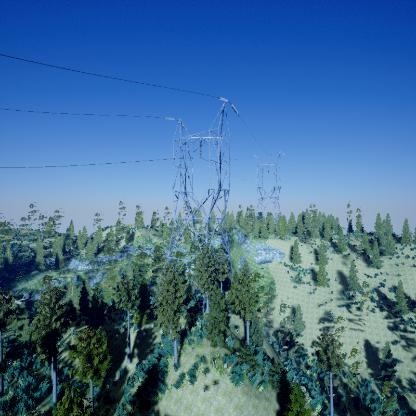tower: (163, 95, 241, 281), (249, 148, 285, 220)
